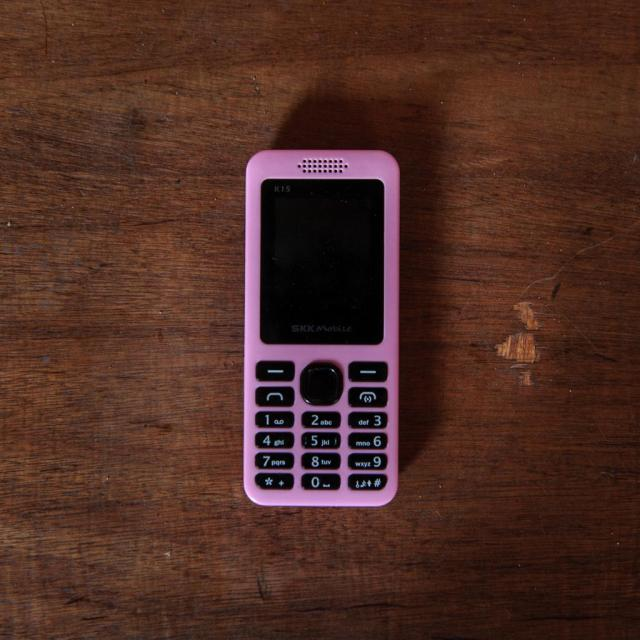Phone: (231, 142, 411, 514)
